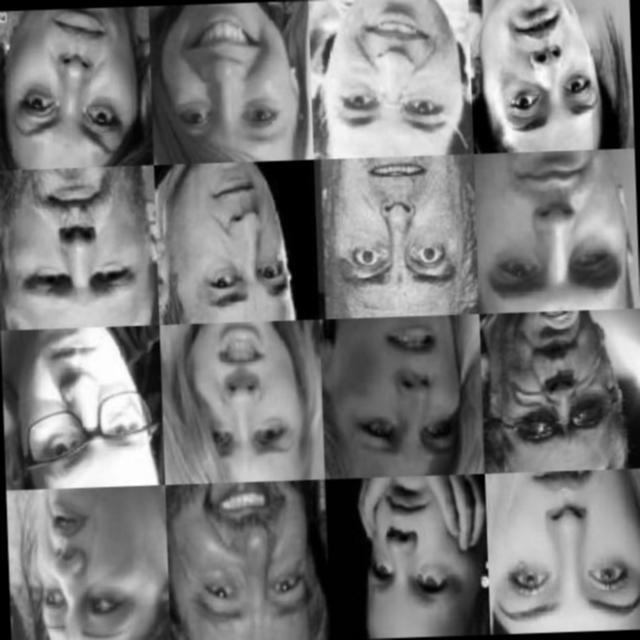angry: (326, 158, 474, 304), (354, 471, 476, 638), (170, 326, 308, 472), (11, 7, 132, 165), (343, 321, 464, 465)
fear: (497, 470, 640, 624), (494, 316, 632, 474), (28, 486, 161, 639)
happy: (176, 480, 326, 640), (146, 1, 296, 152), (322, 0, 466, 145)
neutral: (6, 330, 165, 474), (7, 174, 151, 304), (170, 164, 298, 306), (486, 0, 608, 139)
sad: (481, 146, 631, 305)
